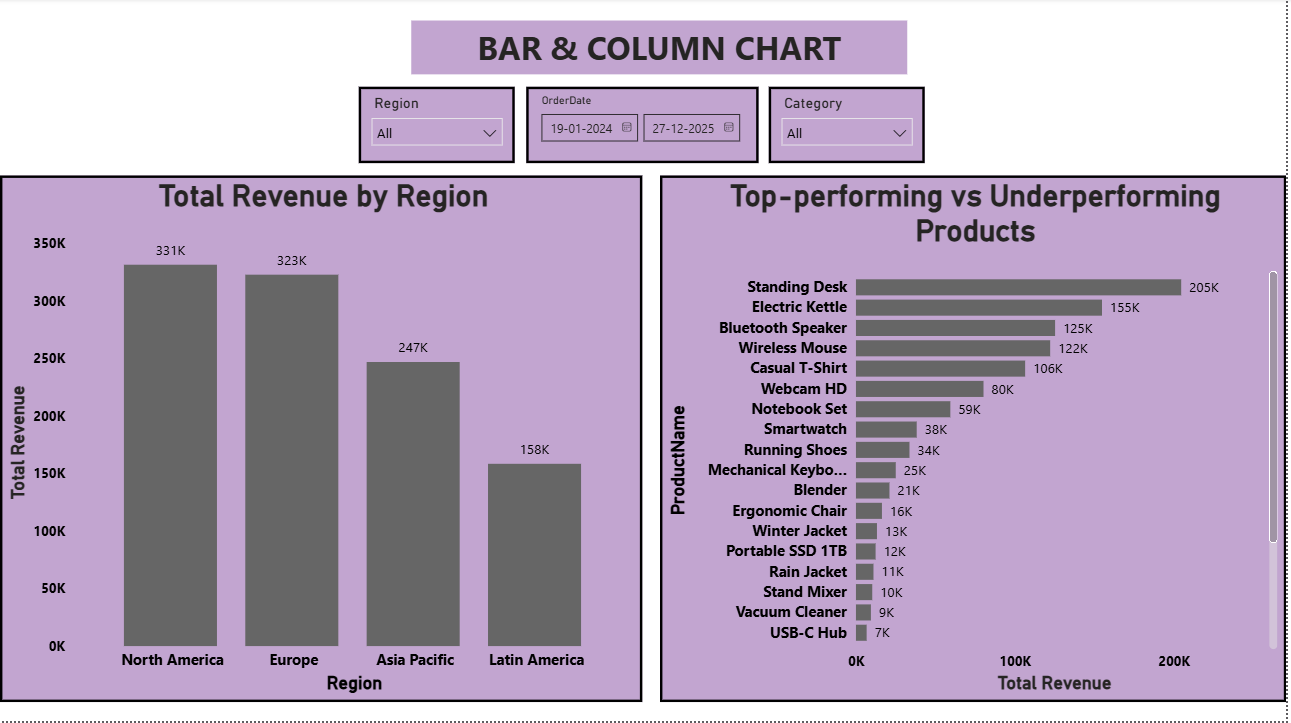

What the dashboard file says about the page in this screenshot:
{"tool":"powerbi","page":{"name":"BAR & COLUMN CHART","canvas":[1280,720],"ordinal":1},"visuals":[{"type":"clusteredColumnChart","fields":{"Y":["Sales.Total Revenue"],"Category":["Regions.Region"]},"box":[0,176.6,639.4,523.7],"z":0},{"type":"barChart","title":"Top-performing vs Underperforming Products","fields":{"Y":["Sales.Total Revenue"],"Category":["Products.ProductName"]},"box":[656.8,176.6,623.2,523.7],"z":1000},{"type":"textbox","box":[409.3,22.4,493.9,53.5],"z":2000},{"type":"slicer","fields":{"Values":["Regions.Region"]},"box":[357,88.3,155.5,75.9],"z":3000},{"type":"slicer","fields":{"Values":["Products.Category"]},"box":[765,88.3,155.5,75.9],"z":4000},{"type":"slicer","fields":{"Values":["Sales.OrderDate"]},"box":[523.7,88.3,231.4,75.9],"z":5000}]}

Visuals, with their boxes in screenshot pixels (x1, y1, x2, y2), scaled from the page's 1280x720 canvas onto the 1291x723 screenshot:
clusteredColumnChart - Sales.Total Revenue x Regions.Region: box=[0, 177, 645, 703]
"Top-performing vs Underperforming Products" barChart: box=[662, 177, 1290, 703]
textbox: box=[413, 22, 911, 76]
slicer - Regions.Region: box=[360, 89, 517, 165]
slicer - Products.Category: box=[772, 89, 928, 165]
slicer - Sales.OrderDate: box=[528, 89, 762, 165]
